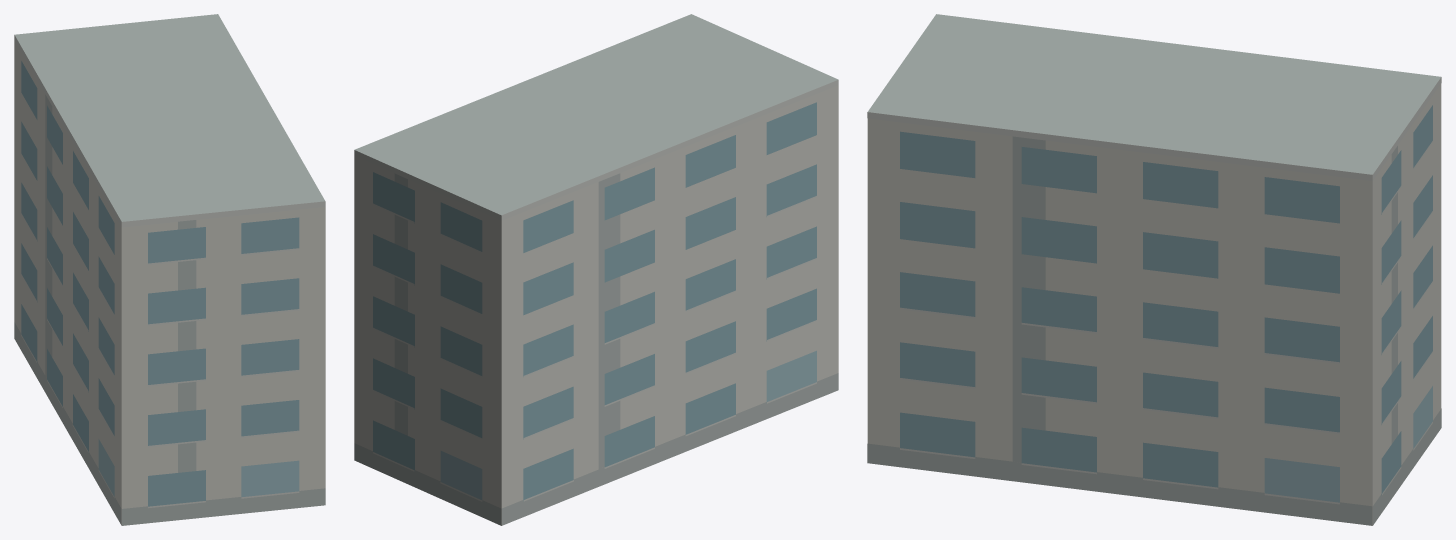
The model's file is survey-upis-32937829.glb.
3 views of the same model, side by side, from view 1: azimuth 30°, elevation 25°; view 2: azimuth 150°, elevation 25°; view 3: azimuth 270°, elevation 25° (orthographic). The views are drawn at different scales.
Visible parts, largest first — view 1: survey-upis-32937829.tmp; view 2: survey-upis-32937829.tmp; view 3: survey-upis-32937829.tmp.
Boxes of the visible parts, x1=… form: survey-upis-32937829.tmp: x1=14, y1=14, x2=325, y2=525; survey-upis-32937829.tmp: x1=354, y1=14, x2=838, y2=525; survey-upis-32937829.tmp: x1=867, y1=14, x2=1441, y2=525.
Bounding box in the file's own units: 13.32 × 13.55 × 20.09.
